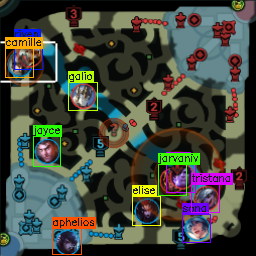aphelios: (55, 230, 79, 254)
camille: (7, 51, 32, 76)
elise: (133, 197, 158, 223)
galio: (70, 83, 95, 107)
jarvaniv: (158, 169, 183, 192)
jayce: (35, 138, 59, 163)
riven: (18, 41, 42, 66)
sona: (184, 215, 209, 241)
taric: (169, 163, 194, 188)
tristana: (193, 185, 218, 210)
